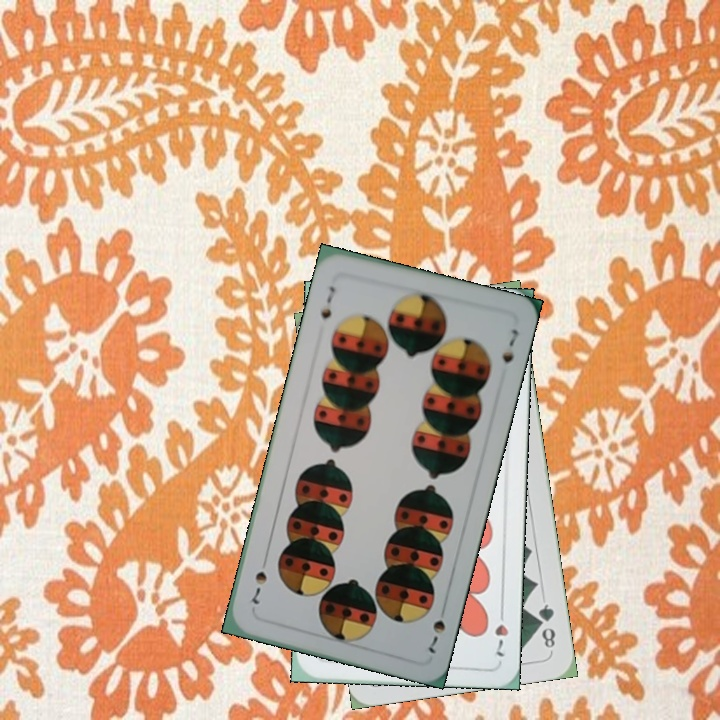G8: (533, 599, 558, 651)
H7: (491, 603, 511, 660)
S7: (424, 616, 448, 656), (316, 281, 339, 322)
